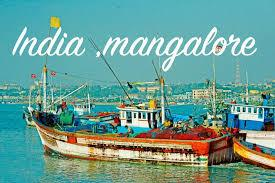fishing boat: (30, 89, 248, 169)
